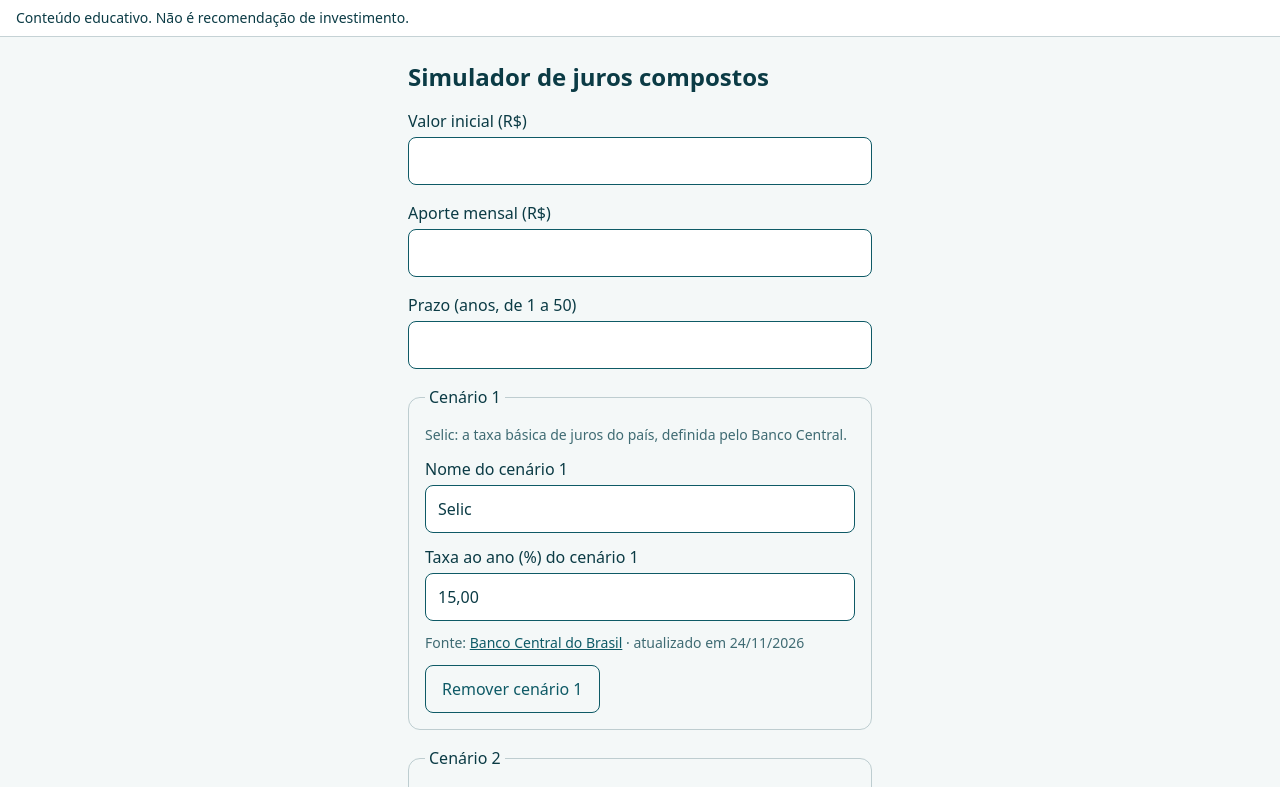
Test: InvestmentSimulatorPage › editingDropsTheStamp
The image size is (1280, 787).
Replace the text in the field labelled "Taxa ao ano (%) do cenário 1" with "12" at (640, 597), box [425,573,855,621]
(page scrolled)
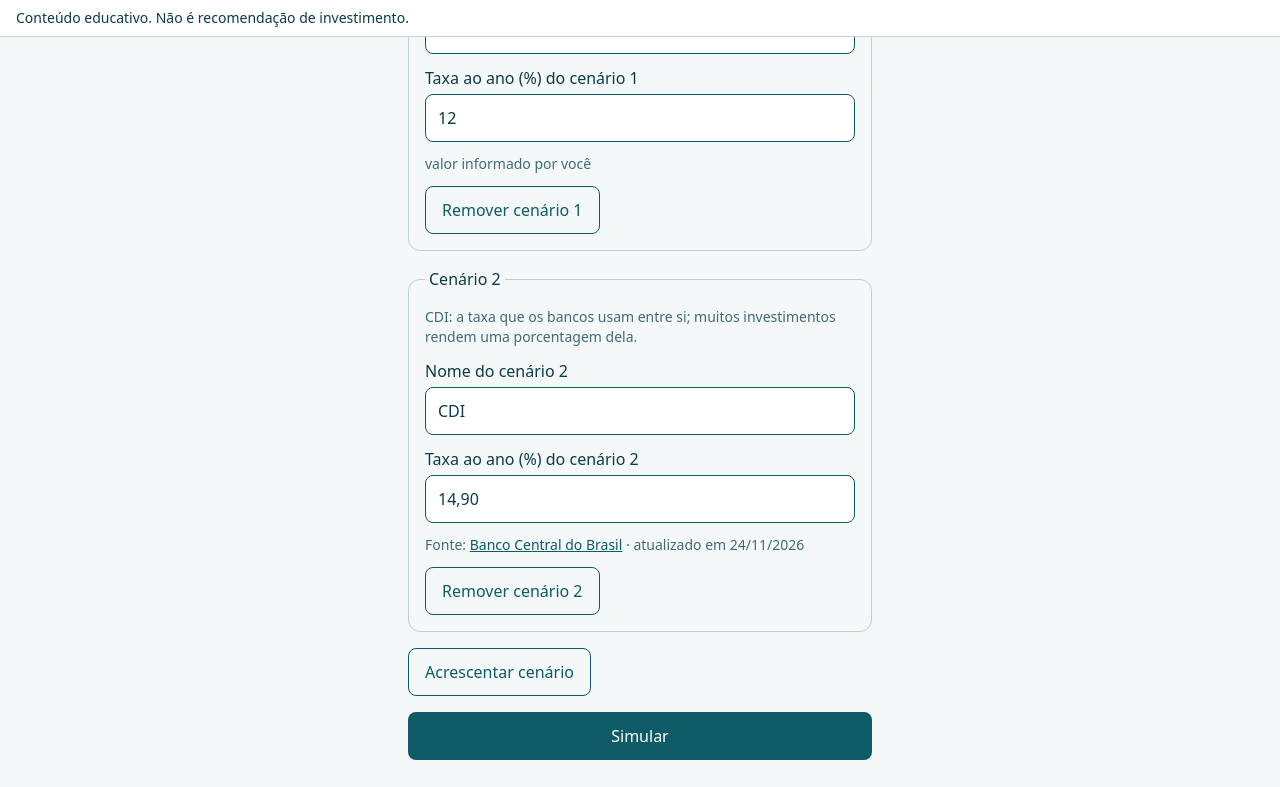
Expected: the text "Fonte: Banco Central do Brasil · atualizado em 24/11/2026" is shown once, [425,535,855,555]
Expected: the text "valor informado por você" is shown, [425,154,591,173]
